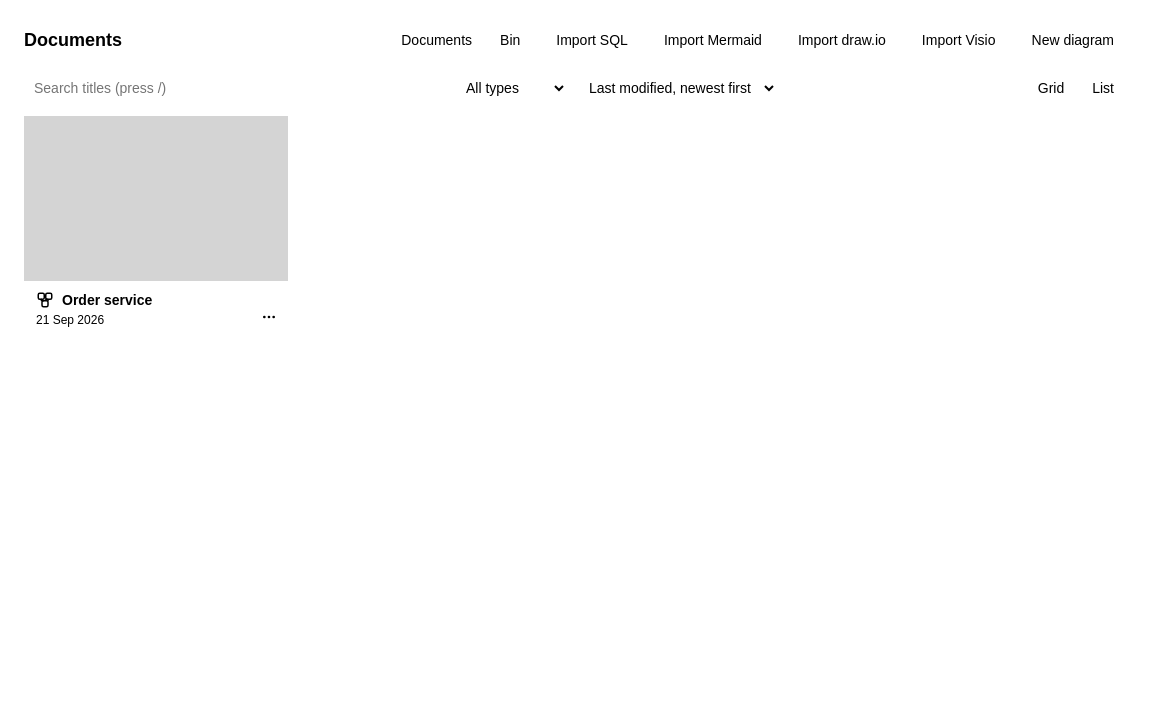
it: HomePage › moves a document to the bin without asking, and offers Undo that restores it
Check: the button "Order service" is shown, box [62, 292, 152, 308]
Click the button named "Actions for Order service" at (269, 318), box [256, 304, 282, 333]
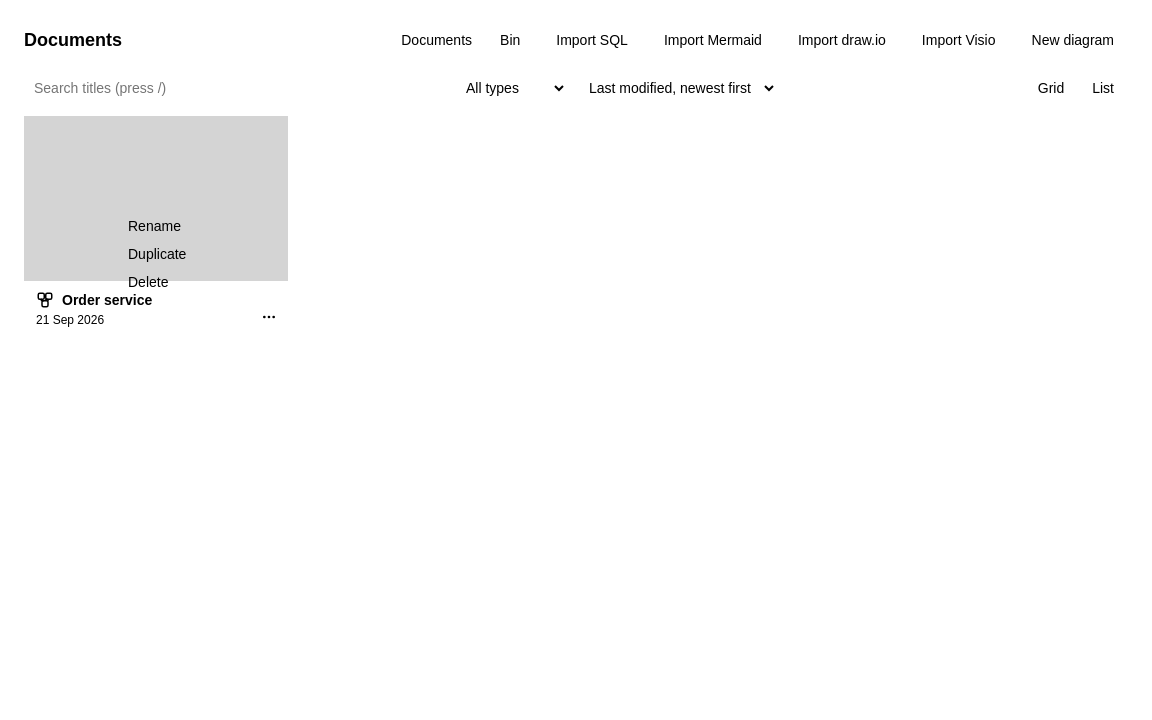
Click the menu item "Delete" at (198, 282), box [118, 268, 278, 296]
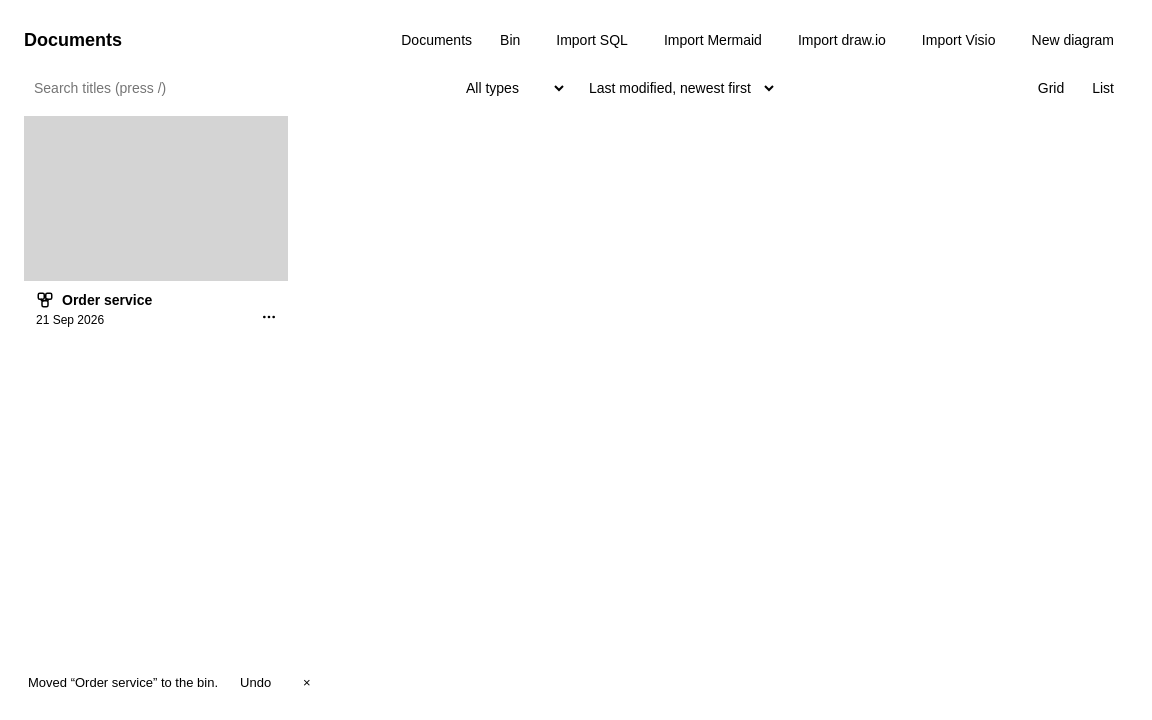
Check: the message "Undo" shows "Moved “Order service” to the bin.", box [28, 674, 218, 690]
Click the button "Undo" at (256, 682), box [230, 668, 281, 696]
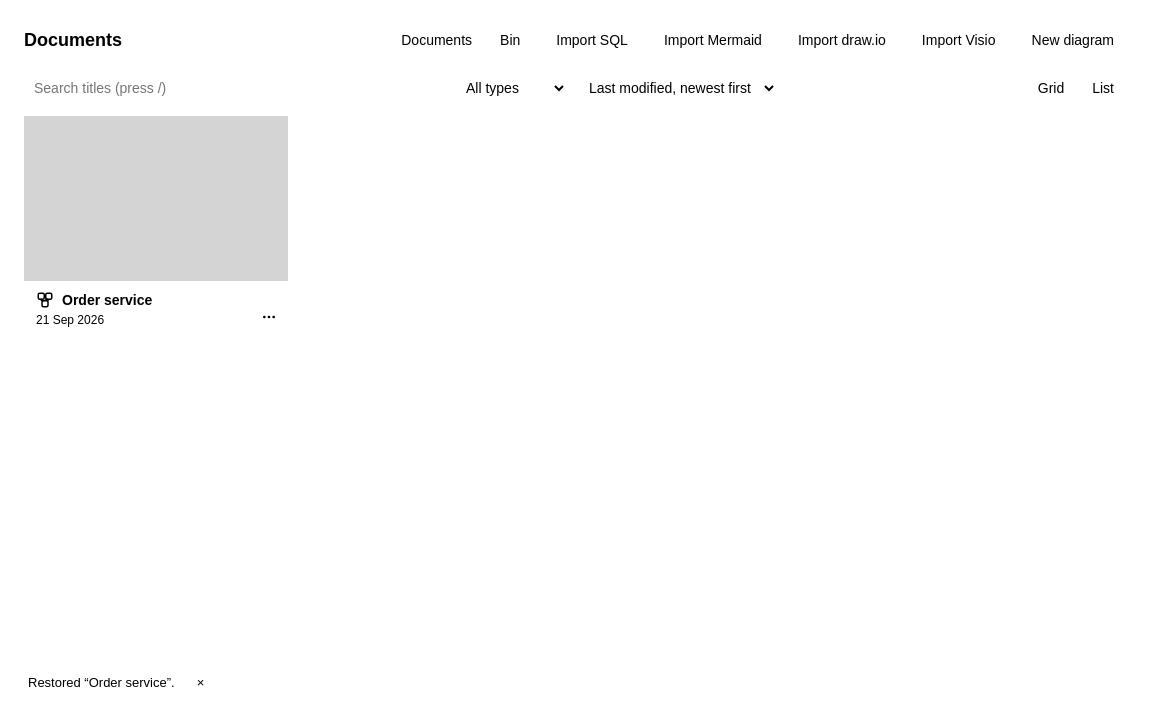
Check: the button "Undo" is gone
